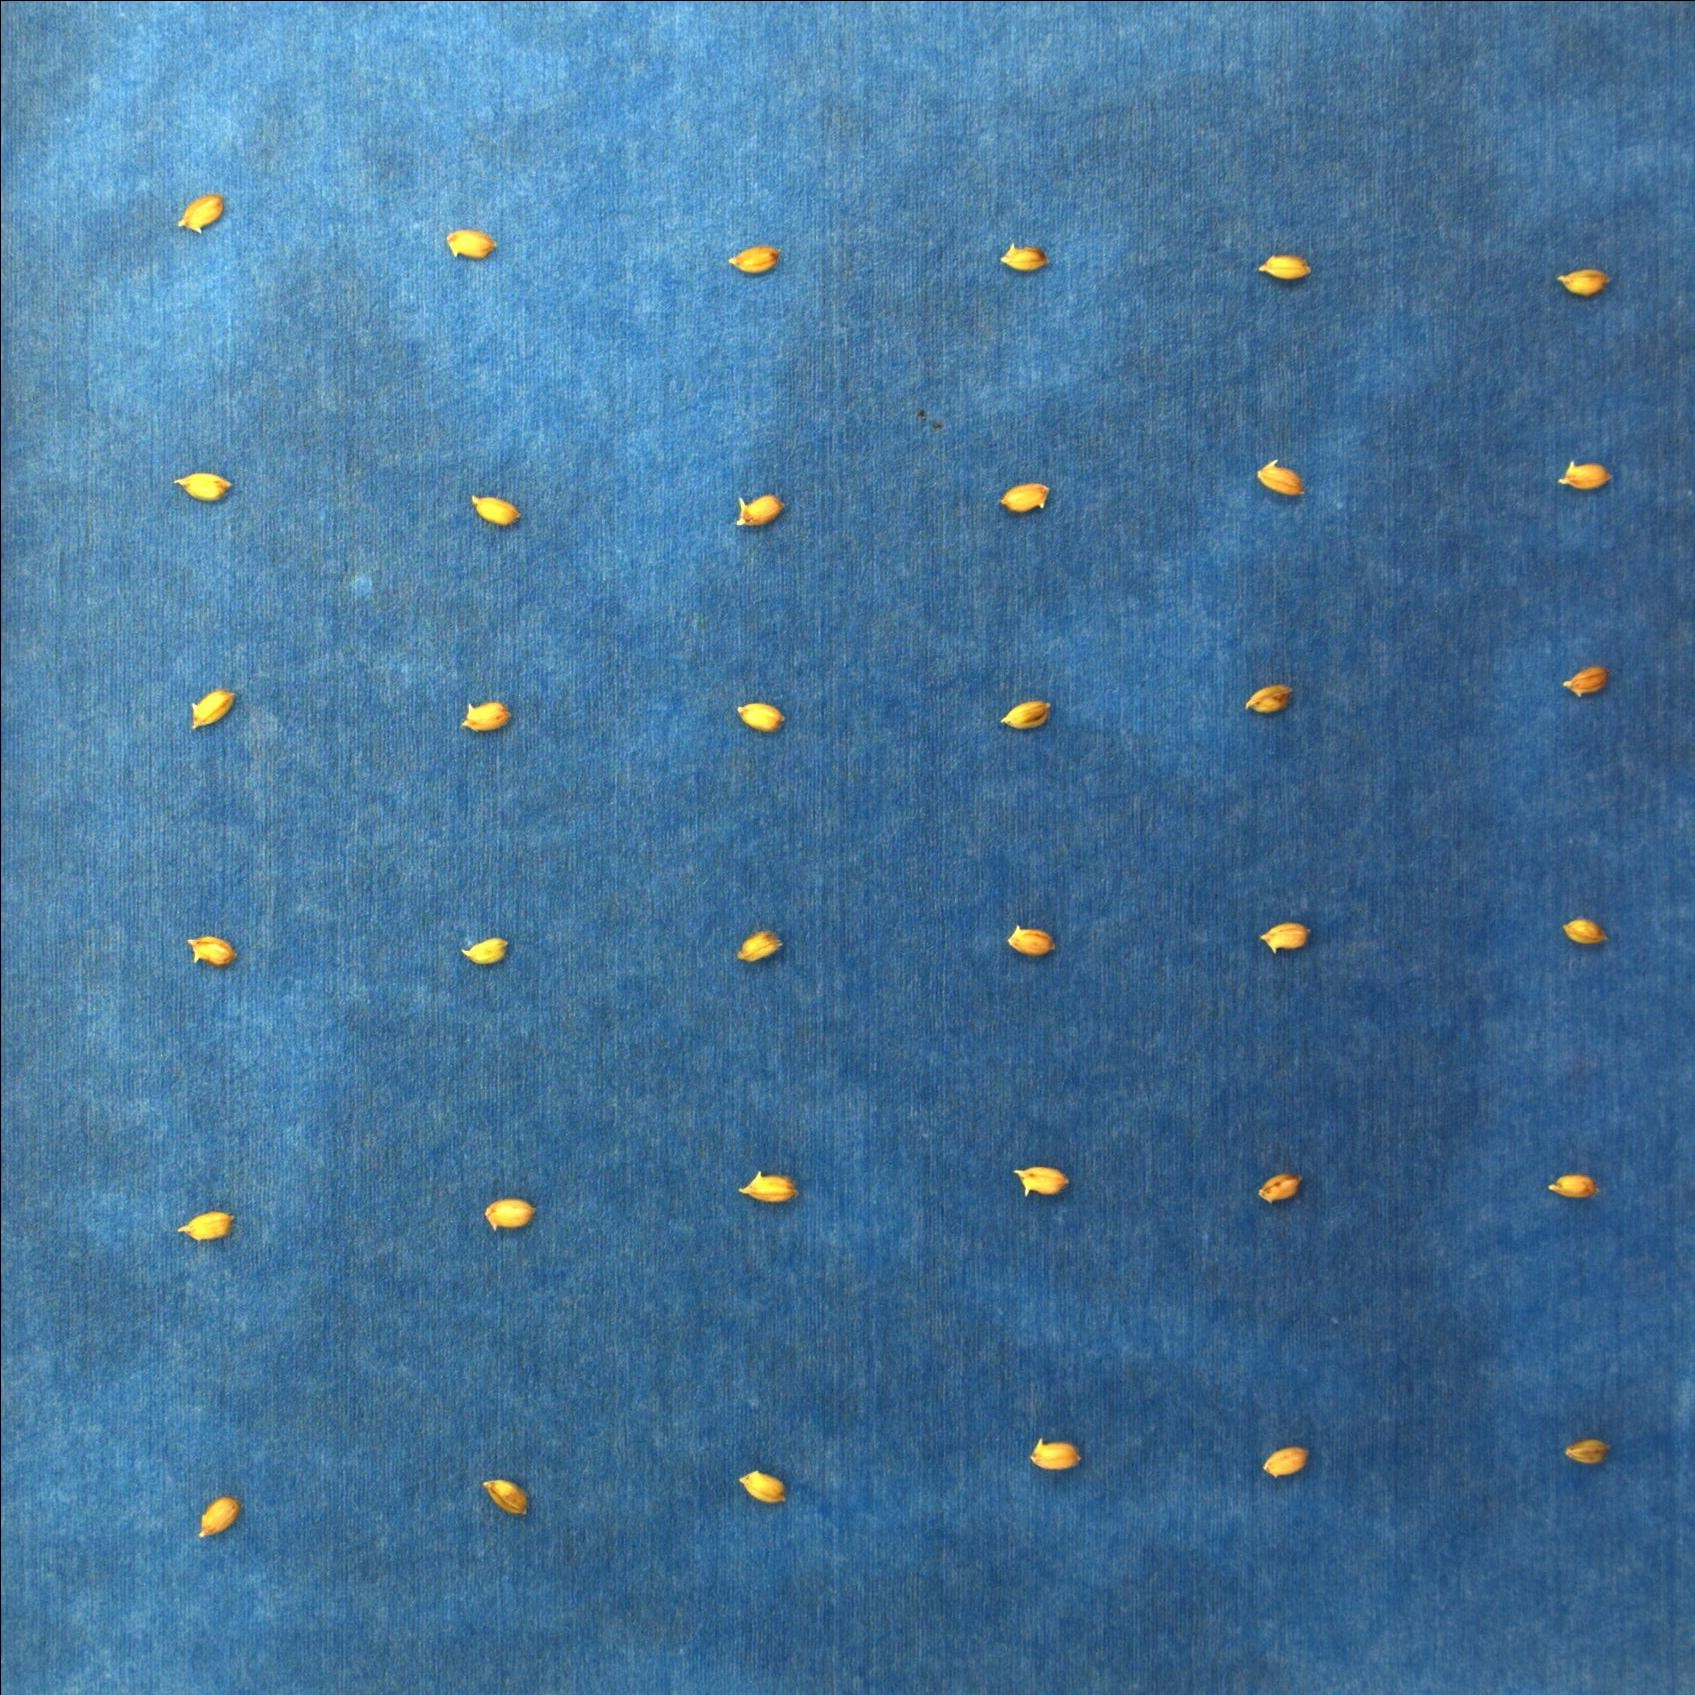not sprout: (719, 242, 785, 279), (736, 1166, 802, 1203), (1256, 247, 1313, 284), (1012, 1164, 1071, 1200), (1256, 459, 1307, 500), (733, 490, 784, 531), (1560, 456, 1617, 492), (1544, 1167, 1597, 1206), (1551, 267, 1611, 300), (174, 196, 227, 233), (174, 1208, 231, 1242), (1028, 1437, 1085, 1471), (186, 688, 234, 726), (993, 480, 1048, 514), (997, 698, 1051, 733), (998, 237, 1048, 275), (736, 1470, 787, 1506), (185, 931, 237, 965), (1259, 917, 1307, 955), (1240, 681, 1298, 712), (733, 698, 782, 734), (466, 495, 520, 528), (1003, 927, 1057, 959), (483, 1475, 528, 1513), (172, 473, 231, 503), (478, 1200, 534, 1231), (456, 934, 508, 967), (444, 231, 503, 259), (1558, 664, 1607, 698), (1260, 1444, 1309, 1478), (461, 700, 511, 733), (194, 1499, 237, 1537), (1250, 1173, 1304, 1203), (1557, 914, 1603, 945), (734, 930, 782, 959), (1565, 1437, 1608, 1467)
